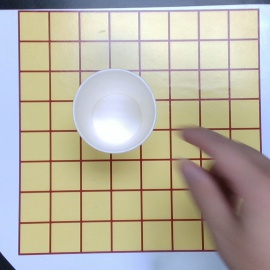cup: (74, 68, 158, 155)
